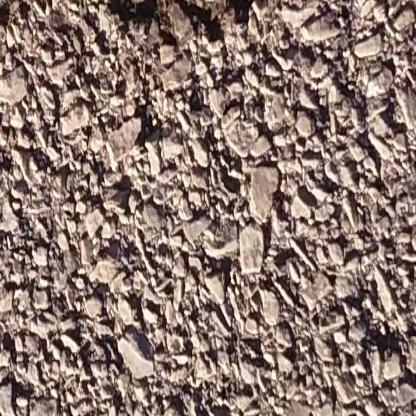Cracks: (0, 0, 305, 77)
